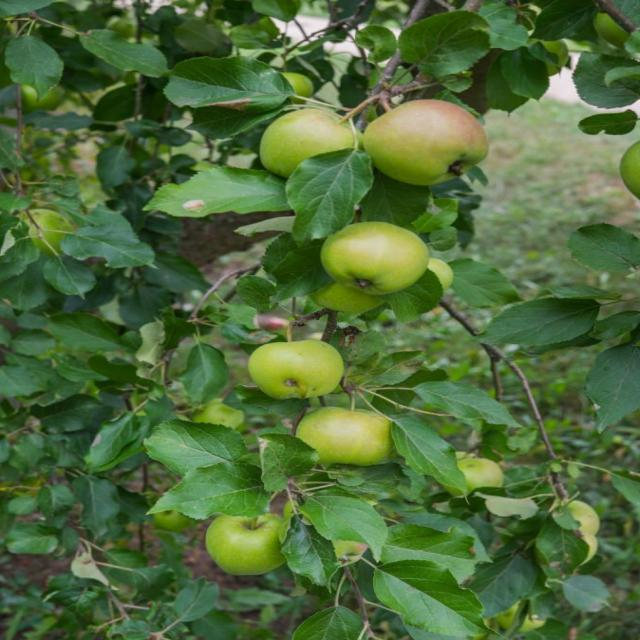Green Apple: (374, 101, 492, 185), (264, 107, 361, 175), (332, 225, 428, 290), (301, 399, 392, 466), (208, 512, 288, 573), (252, 343, 342, 397), (312, 272, 377, 317), (309, 522, 366, 568), (19, 210, 83, 250), (554, 500, 601, 552), (458, 455, 511, 497), (191, 398, 245, 430), (409, 256, 458, 289), (282, 68, 324, 105), (15, 88, 64, 117), (533, 34, 569, 73), (594, 13, 636, 44), (499, 603, 542, 632), (622, 138, 640, 206)
